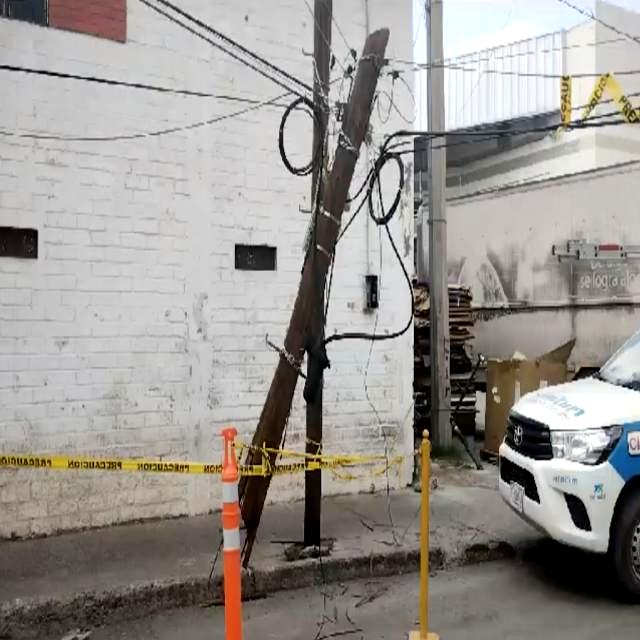Broken Pole: (223, 25, 397, 559)
